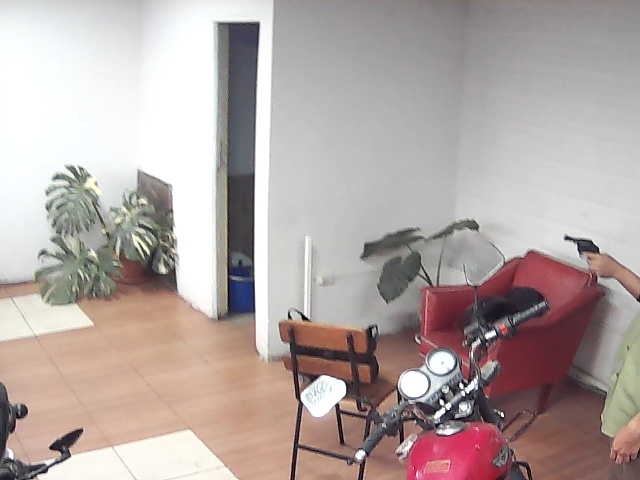pistola: (553, 228, 620, 285)
